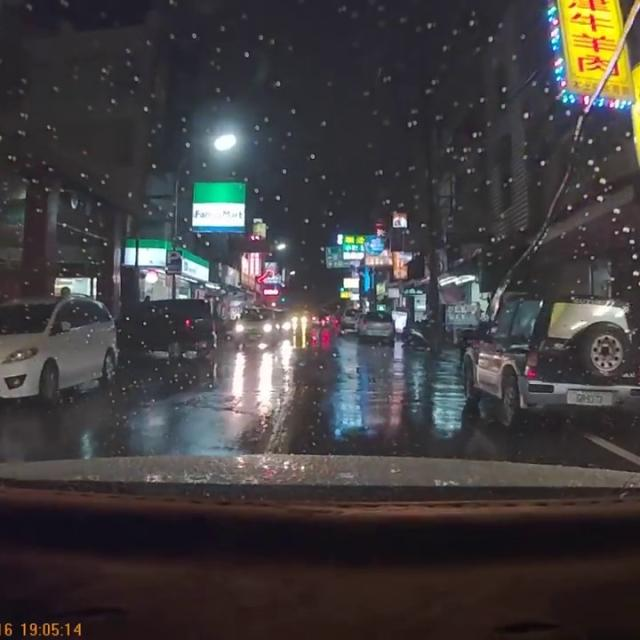Car: (457, 288, 639, 435), (0, 289, 116, 404), (117, 296, 215, 363), (228, 303, 281, 349), (353, 310, 397, 344)
